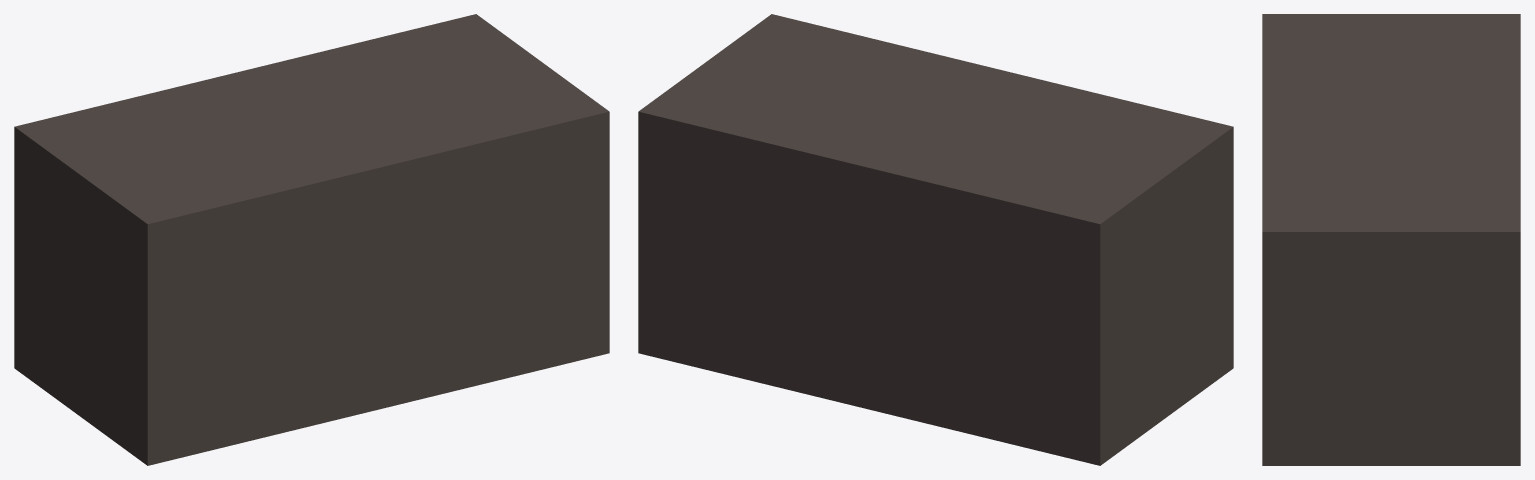
The model's file is Key84.obj.
3 renders of one model, left to right at view 1: azimuth 30°, elevation 25°; view 2: azimuth 150°, elevation 25°; view 3: azimuth 270°, elevation 25°, orthographic. The views are drawn at different scales.
Parts seen in each view (by area): view 1: Key84; view 2: Key84; view 3: Key84.
Boxes of the visible parts, x1=… form: Key84: x1=14, y1=14, x2=609, y2=465; Key84: x1=638, y1=14, x2=1233, y2=465; Key84: x1=1262, y1=14, x2=1520, y2=465.
Bounding box in the file's own units: 8 × 4 × 4.
Materials: 1 (1 with a texture image).
